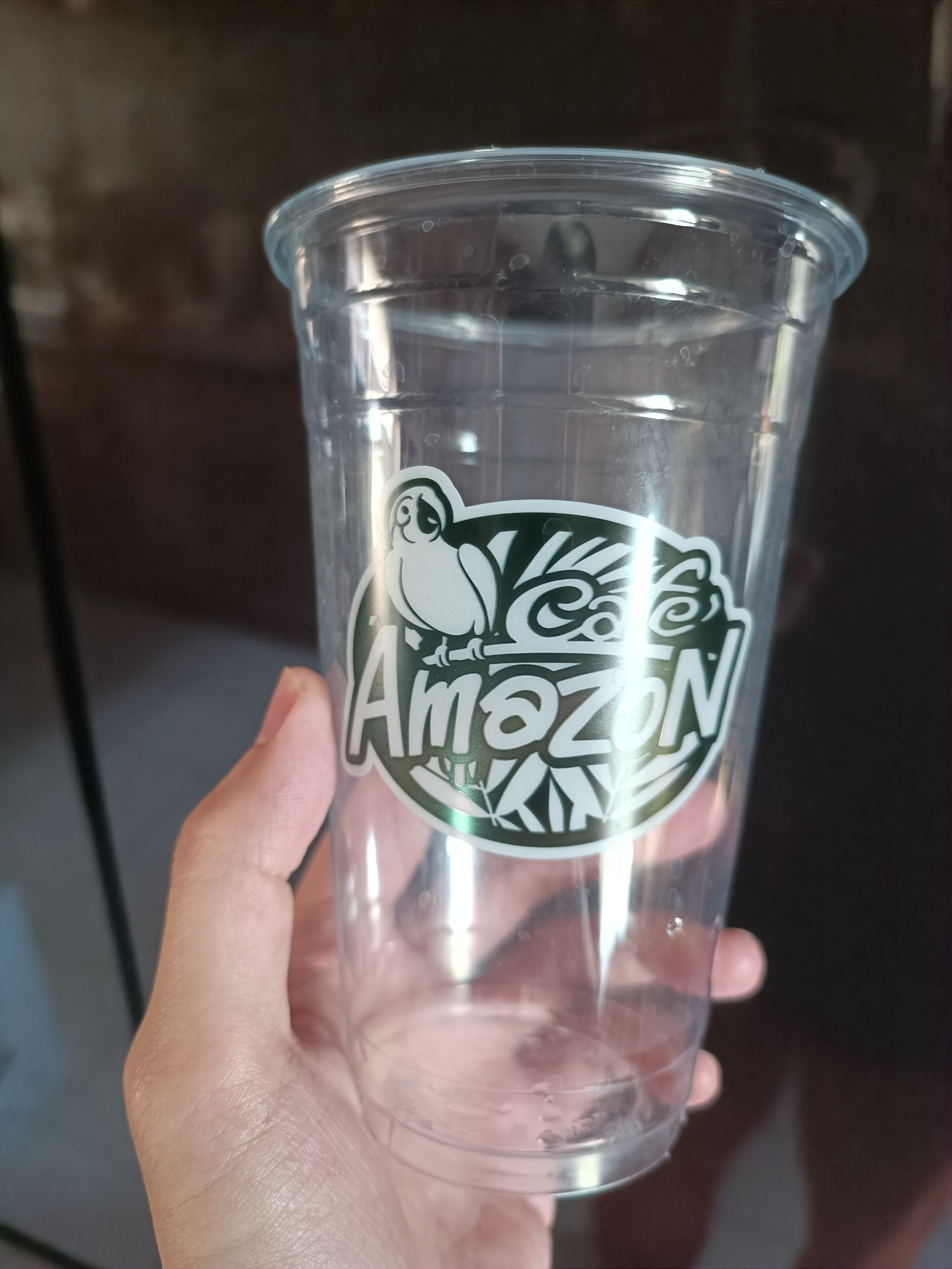plastic: (255, 132, 874, 1217)
